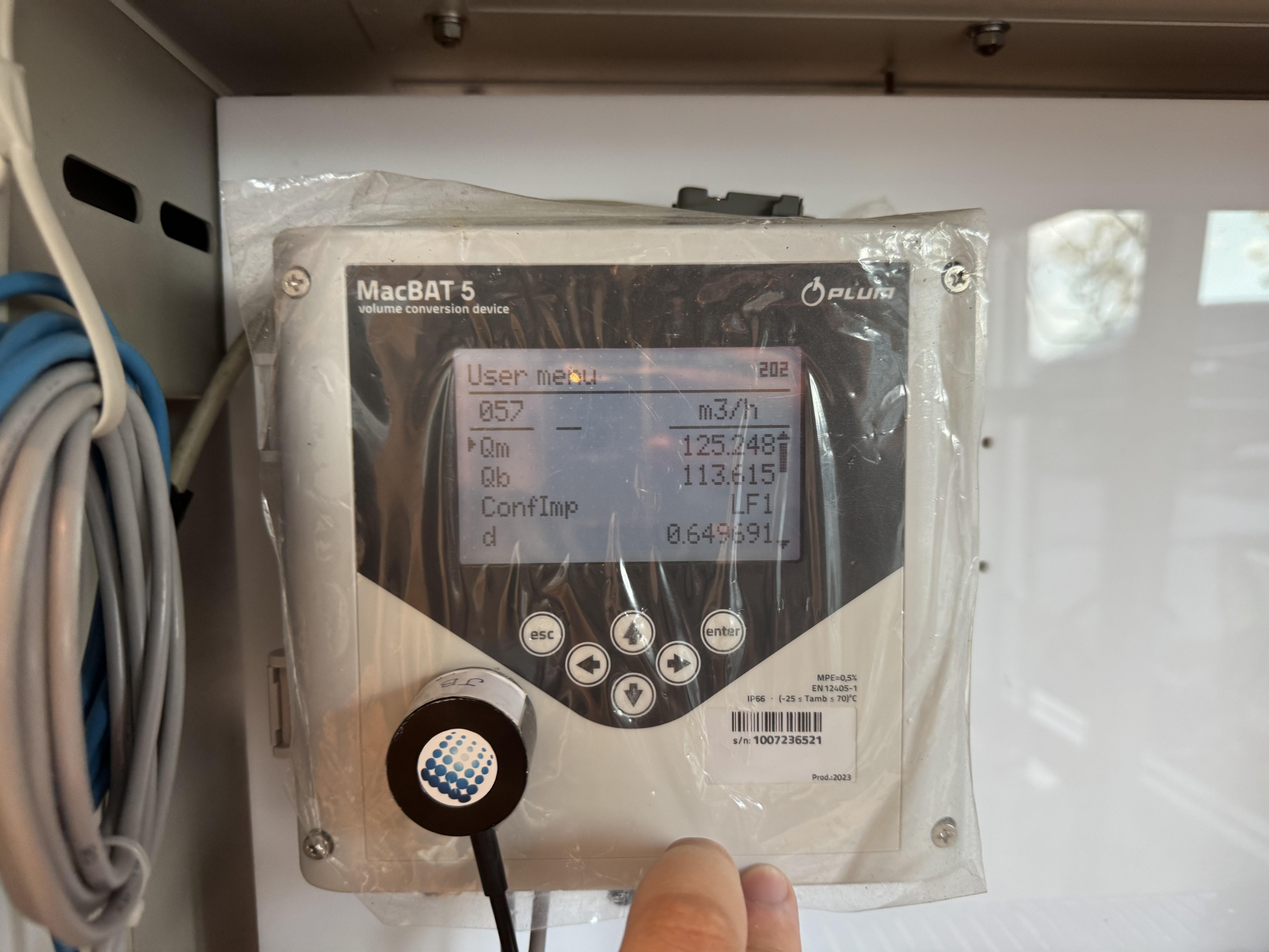digital_screen: (452, 348, 803, 564)
